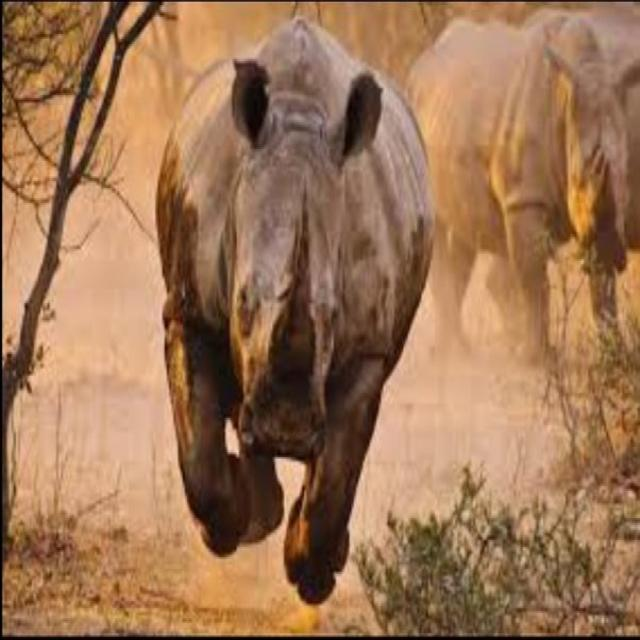Herbivorous: (155, 19, 435, 610), (407, 19, 627, 356)
